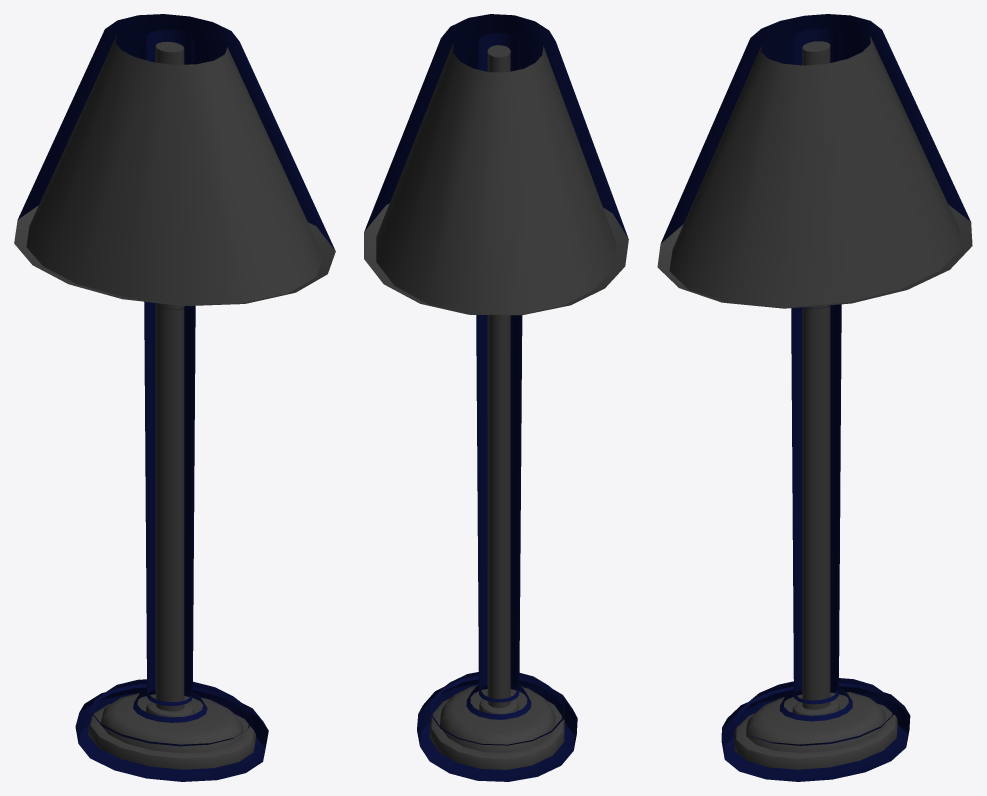
The picture shows the model from 3 angles, left to right: view 1: azimuth 30°, elevation 25°; view 2: azimuth 150°, elevation 25°; view 3: azimuth 270°, elevation 25°; orthographic projection.
Visible parts, largest first — view 1: BaseCube.001; view 2: BaseCube.001; view 3: BaseCube.001.
Boxes of the visible parts, x1,y1,x2,y2 form: BaseCube.001: (14, 14, 335, 781); BaseCube.001: (364, 14, 628, 781); BaseCube.001: (657, 14, 972, 781).
Size of the model in its own units: 0.4584 by 1.24 by 0.4962.
